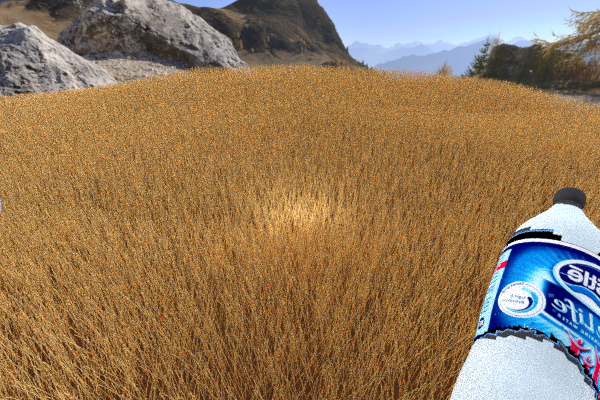Plastic Bottle: (430, 187, 600, 400), (240, 83, 276, 102), (171, 84, 198, 109)
